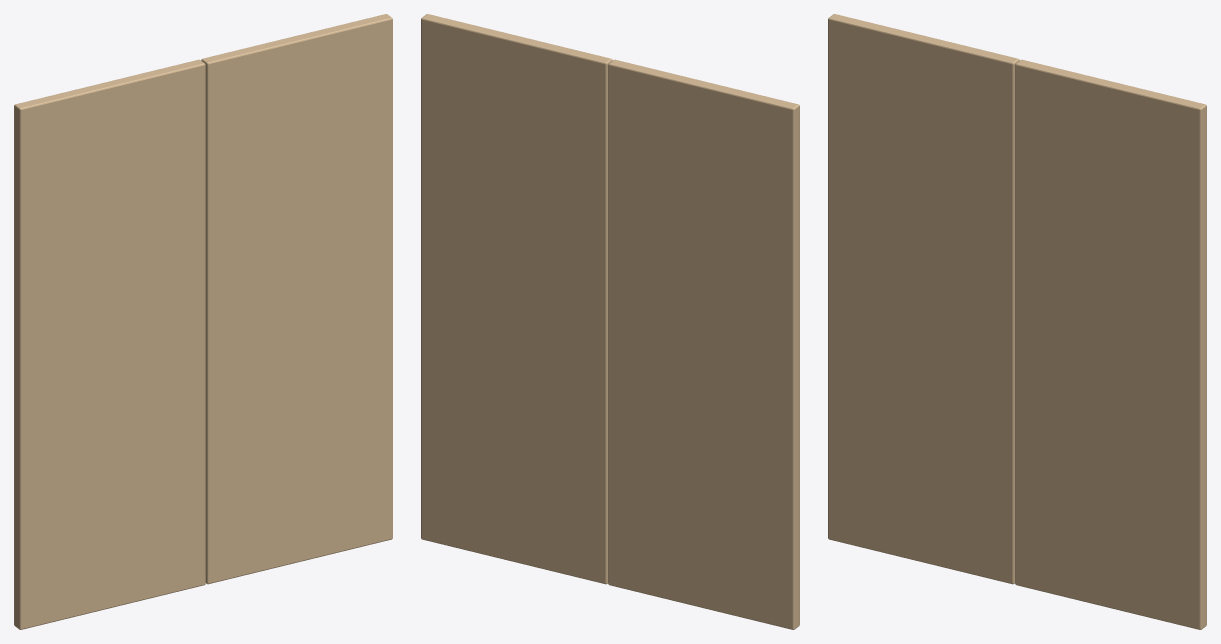
Rendered from DOOR_DOUBLE_600x800.glb.
3 views of the same model, side by side, from view 1: azimuth 30°, elevation 25°; view 2: azimuth 150°, elevation 25°; view 3: azimuth 330°, elevation 25° (orthographic).
Parts seen in each view (by area): view 1: front_panel_01, front_panel_02; view 2: front_panel_01, front_panel_02; view 3: front_panel_02, front_panel_01.
Boxes of the visible parts, left/top/right/bottom form: front_panel_01: left=14, top=59, right=205, bottom=629; front_panel_02: left=201, top=14, right=392, bottom=584; front_panel_01: left=608, top=59, right=799, bottom=629; front_panel_02: left=421, top=14, right=612, bottom=584; front_panel_02: left=1015, top=59, right=1206, bottom=629; front_panel_01: left=828, top=14, right=1019, bottom=584.
Bounding box in the file's own units: 0.596 × 0.796 × 0.018.
